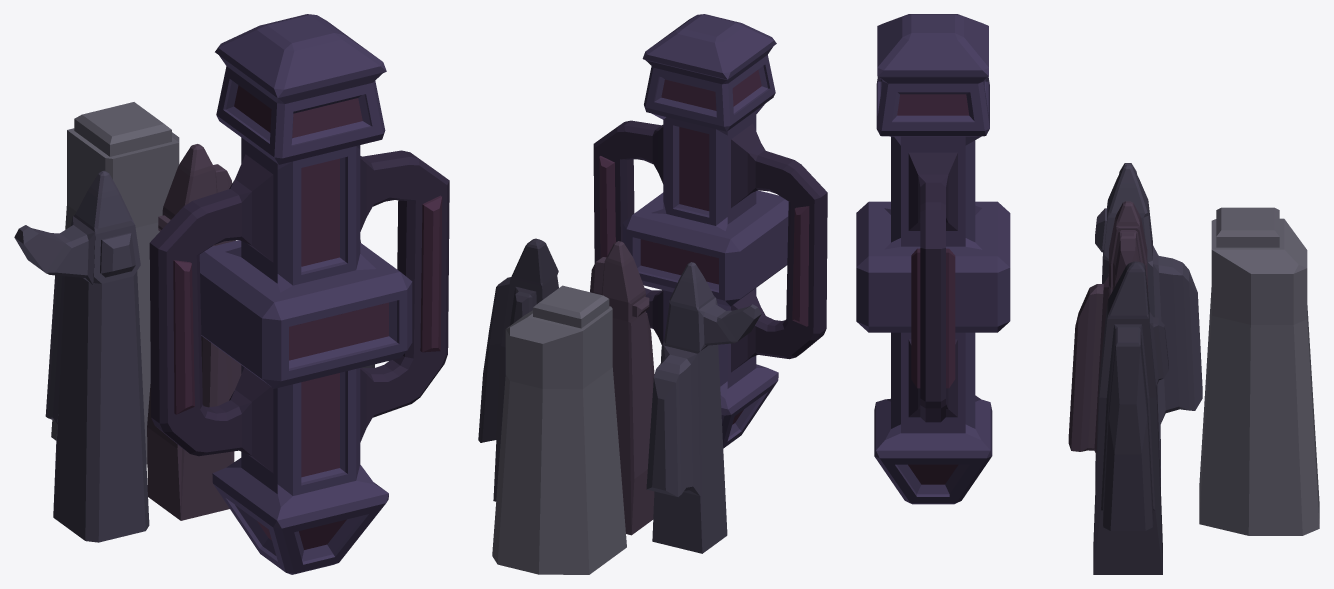
File: RobObjs.fbx
3 renders of one model, left to right at view 1: azimuth 30°, elevation 25°; view 2: azimuth 150°, elevation 25°; view 3: azimuth 270°, elevation 25°, orthographic. The views are drawn at different scales.
Visible parts, largest first — view 1: Laser, Shard3, Rock, Shard; view 2: Laser, Rock, Shard3, Shard, Shard2; view 3: Laser, Rock, Shard2, Shard3, Shard.
Boxes of the visible parts, x1,y1,x2,y2 form: Laser: (149, 14, 449, 574); Shard3: (14, 170, 149, 542); Rock: (51, 102, 179, 463); Shard: (147, 144, 241, 520); Laser: (593, 14, 827, 448); Rock: (492, 285, 626, 574); Shard3: (646, 262, 761, 553); Shard: (590, 241, 654, 535); Shard2: (478, 238, 558, 501); Laser: (856, 14, 1010, 504); Rock: (1199, 207, 1319, 535); Shard2: (1093, 261, 1168, 574); Shard3: (1095, 163, 1202, 486); Shard: (1068, 201, 1148, 454).
Bounding box in the file's own units: 10410 × 15814 × 13541.
